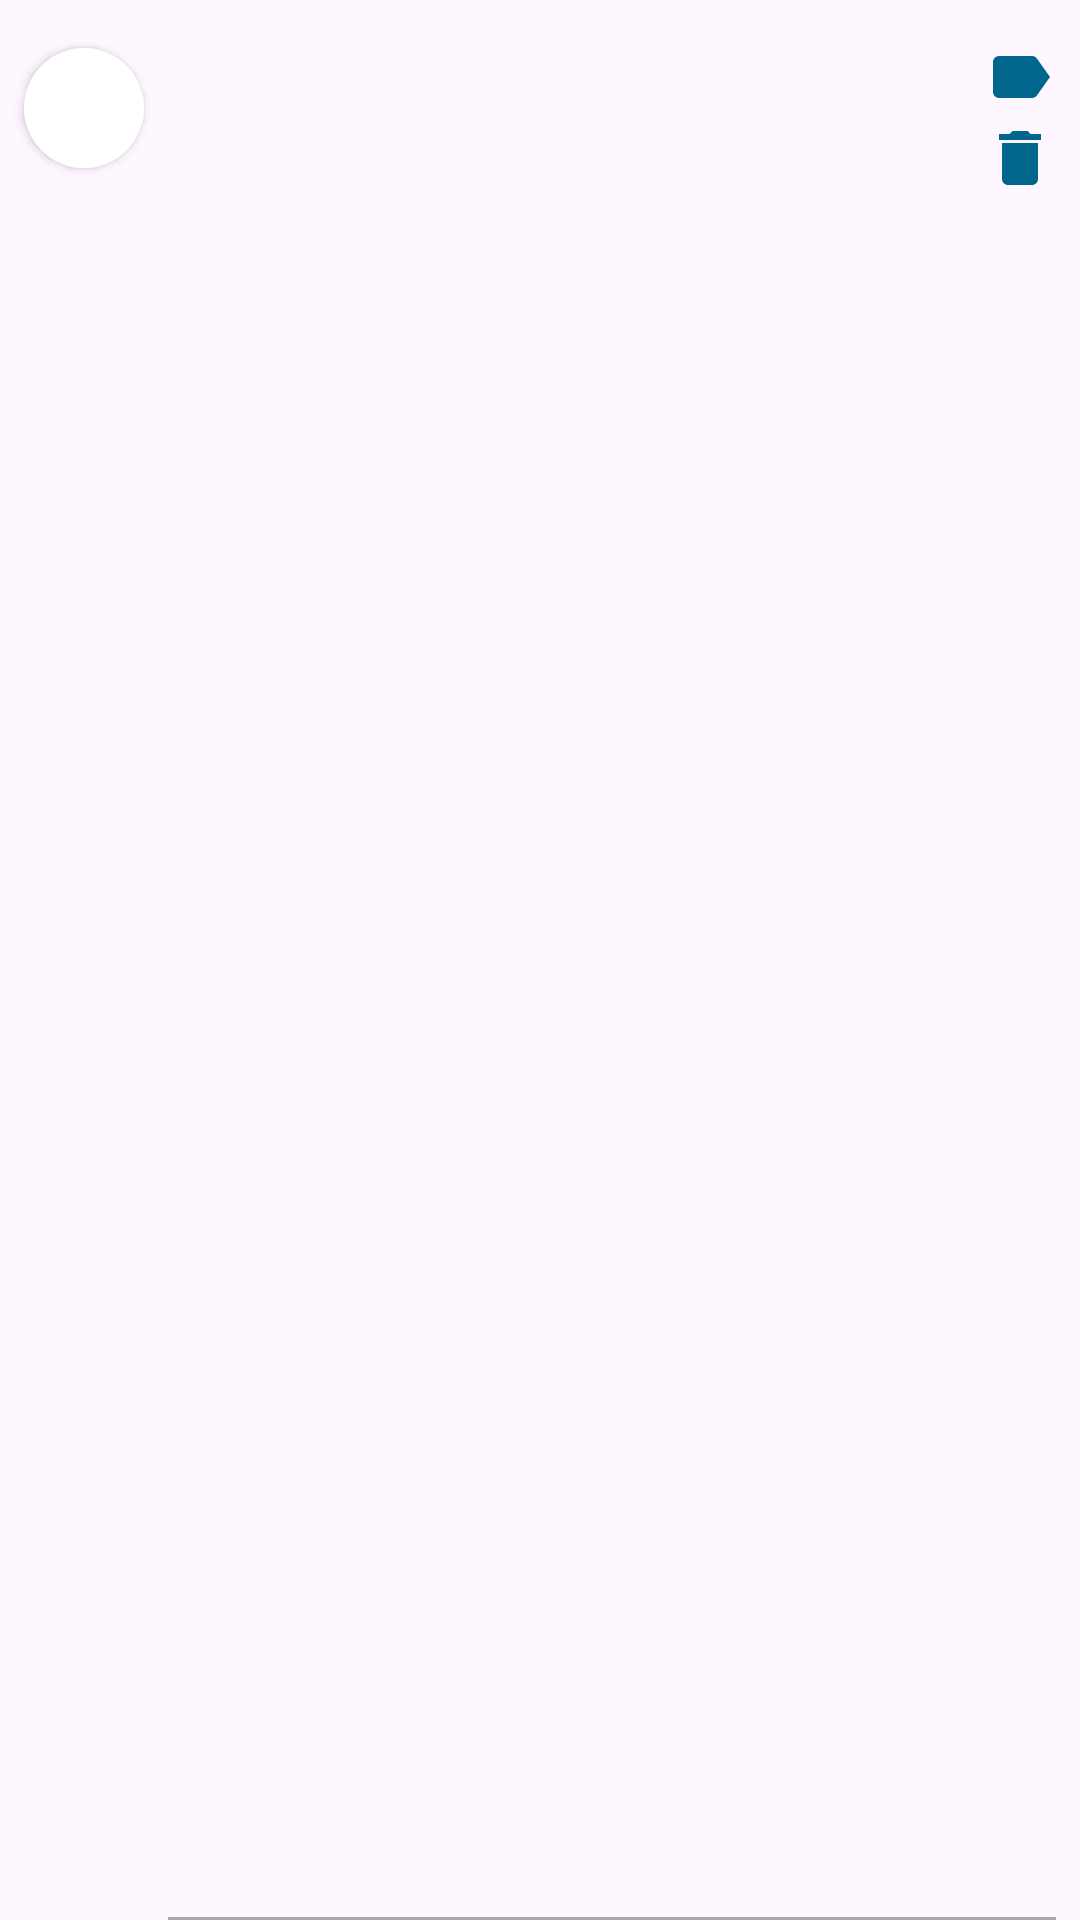

Screen size 1080×1920. Icon name, then its box in pixels as region(x1, y1, x2, y2):
Hapus: region(999, 131, 1041, 185)
